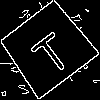T: (23, 24, 75, 79)
